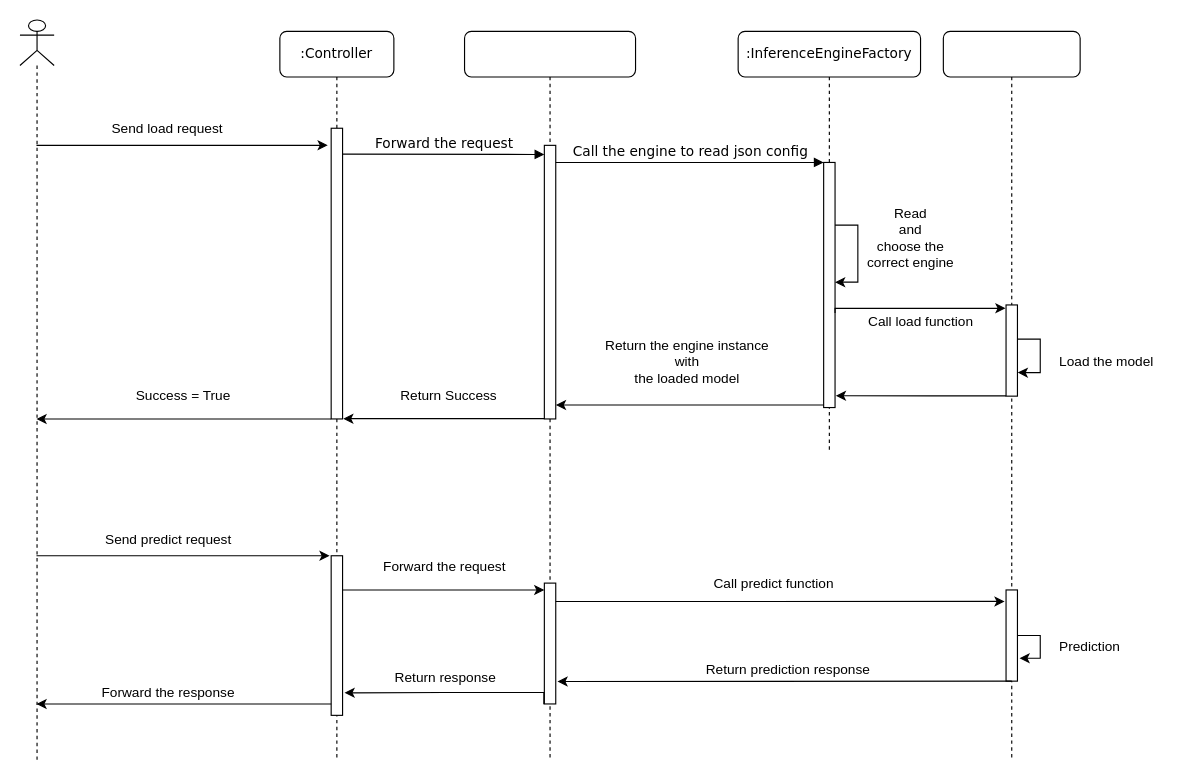
The diagram is 1191 pixels wide and 781 high, and some of its shapes have lost their labels. Each missing label, with the box of its shape:
:DeepLearningService: (463, 30, 636, 761)
:InferenceEngine: (942, 30, 1080, 761)
